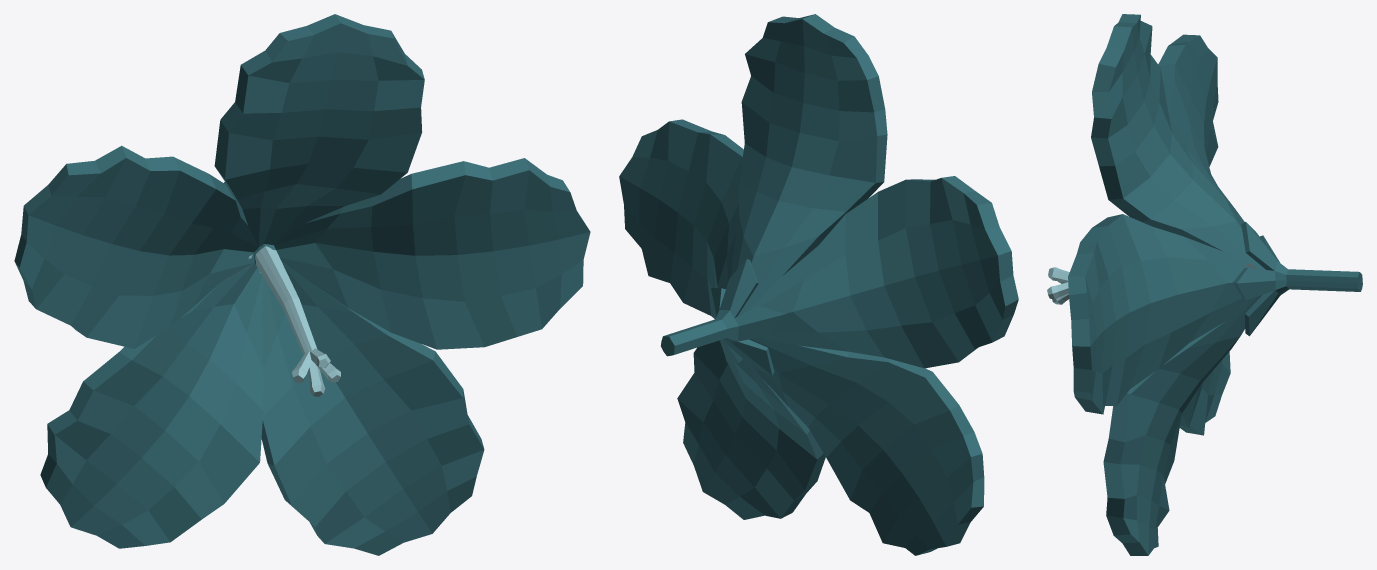
File: Flower1.glb
3 renders of one model, left to right at view 1: azimuth 30°, elevation 25°; view 2: azimuth 150°, elevation 25°; view 3: azimuth 270°, elevation 25°, orthographic. The views are drawn at different scales.
Visible parts, largest first — view 1: node_id6, node_id9; view 2: node_id6, node_id12; view 3: node_id6, node_id12, node_id9.
Boxes of the visible parts, bbox=[...] form: node_id6: bbox=[14, 14, 590, 555]; node_id9: bbox=[254, 244, 340, 396]; node_id6: bbox=[619, 14, 1018, 555]; node_id12: bbox=[661, 259, 787, 375]; node_id6: bbox=[1068, 14, 1265, 555]; node_id12: bbox=[1233, 222, 1362, 336]; node_id9: bbox=[1047, 267, 1069, 304].
Size of the model in its own units: 0.3545 by 0.375 by 0.2152.
3 materials, 3 textured.
